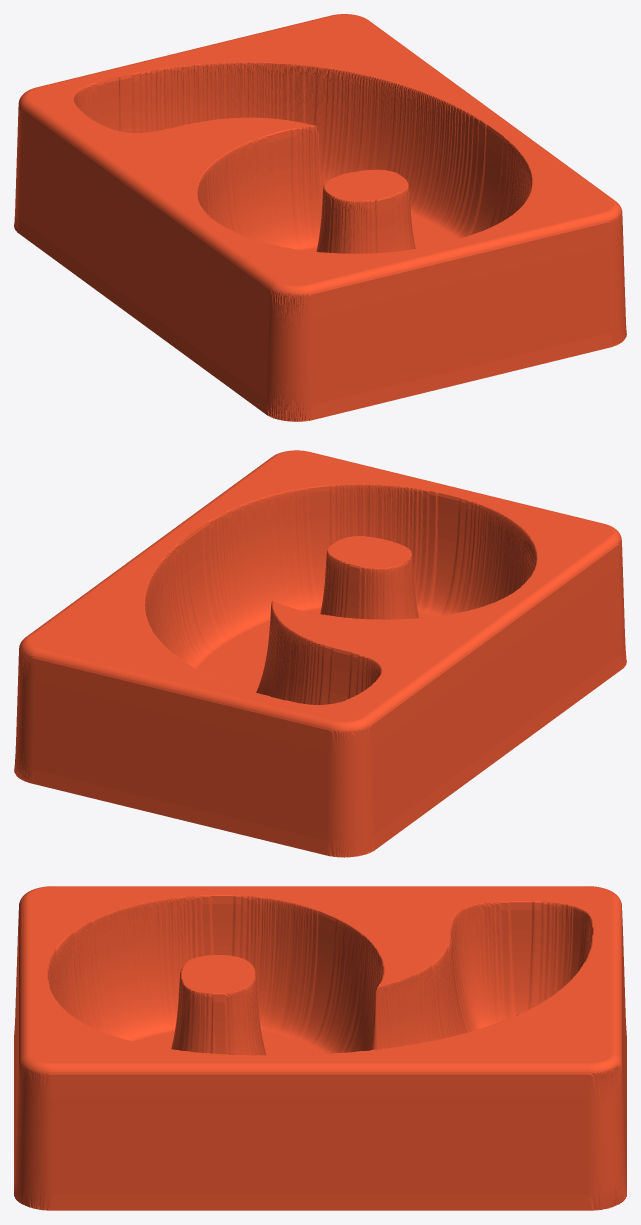
File: mold.glb
3 views of the same model, one above another, from view 1: azimuth 30°, elevation 25°; view 2: azimuth 150°, elevation 25°; view 3: azimuth 270°, elevation 25° (orthographic). The views are drawn at different scales.
Parts seen in each view (by area): view 1: geometry_0; view 2: geometry_0; view 3: geometry_0.
Boxes of the visible parts, x1,y1,x2,y2 form: geometry_0: (14,14,626,421); geometry_0: (14,450,626,857); geometry_0: (14,886,626,1210).
Bounding box in the file's own units: 0.1046 × 0.0365 × 0.1435.
